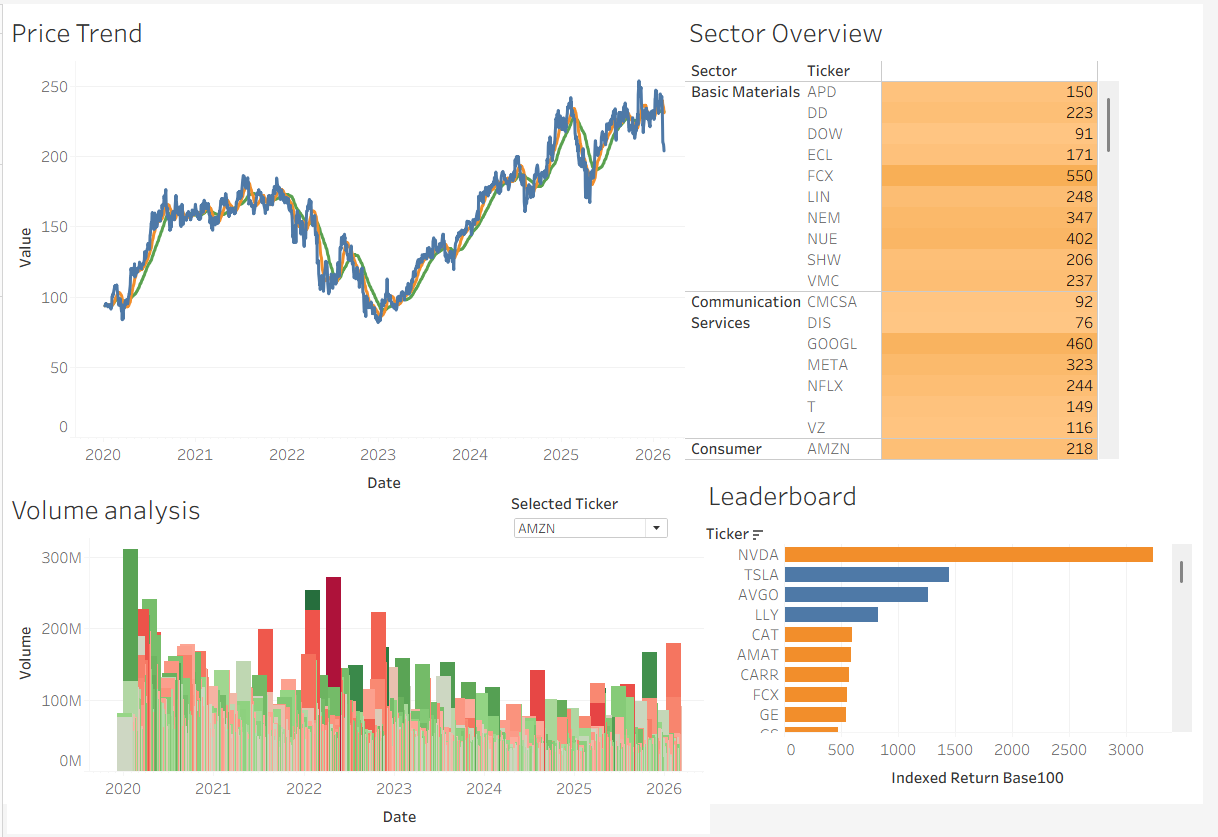

What the dashboard file says about the page in this screenshot:
{"tool":"tableau","page":{"name":"Dashboard ","canvas":[1200,800],"ordinal":0},"visuals":[{"type":"worksheet","title":"Price Trend","mark":"Automatic","cols":["Date"],"box":[4,7,686,489]},{"type":"worksheet","title":"Sector Overview","mark":"Square","rows":["Sector","Ticker"],"box":[682,7,512,449]},{"type":"worksheet","title":"Leaderboard","mark":"Bar","rows":["Ticker"],"cols":["Indexed_Return_Base100"],"box":[701,470,488,321]},{"type":"parameter","param":"[Parameters].[Daily Return Pct Parameter]","box":[508,489,160,48]}]}

Visuals, with their boxes in screenshot pixels (x1, y1, x2, y2), scaled from the page's 1200x800 canvas onto the 1218x837 screenshot:
"Price Trend" worksheet: rect(4, 7, 700, 519)
"Sector Overview" worksheet (Square marks): rect(692, 7, 1212, 477)
"Leaderboard" worksheet (Bar marks): rect(712, 492, 1207, 828)
parameter: rect(516, 512, 678, 562)
